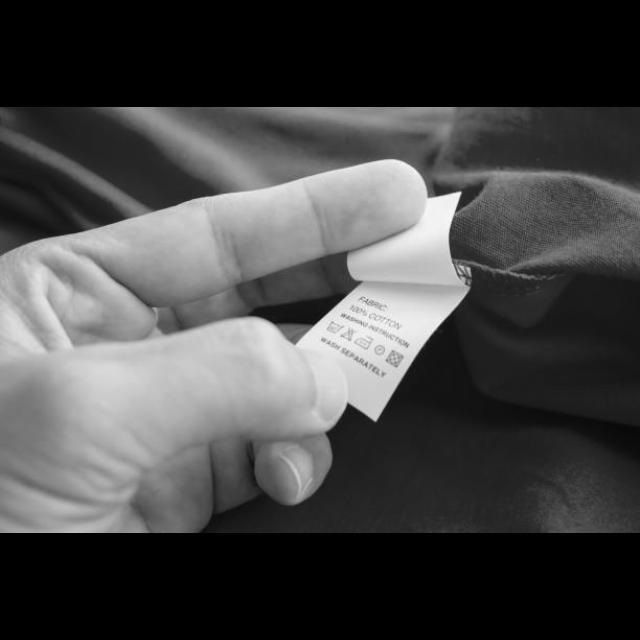40C: (325, 319, 345, 336)
DN_bleach: (338, 326, 359, 342)
DN_tumble_dry: (384, 348, 406, 369)
iron_medium: (353, 334, 375, 352)
normal_dry_clean_solvents: (374, 344, 386, 356)
